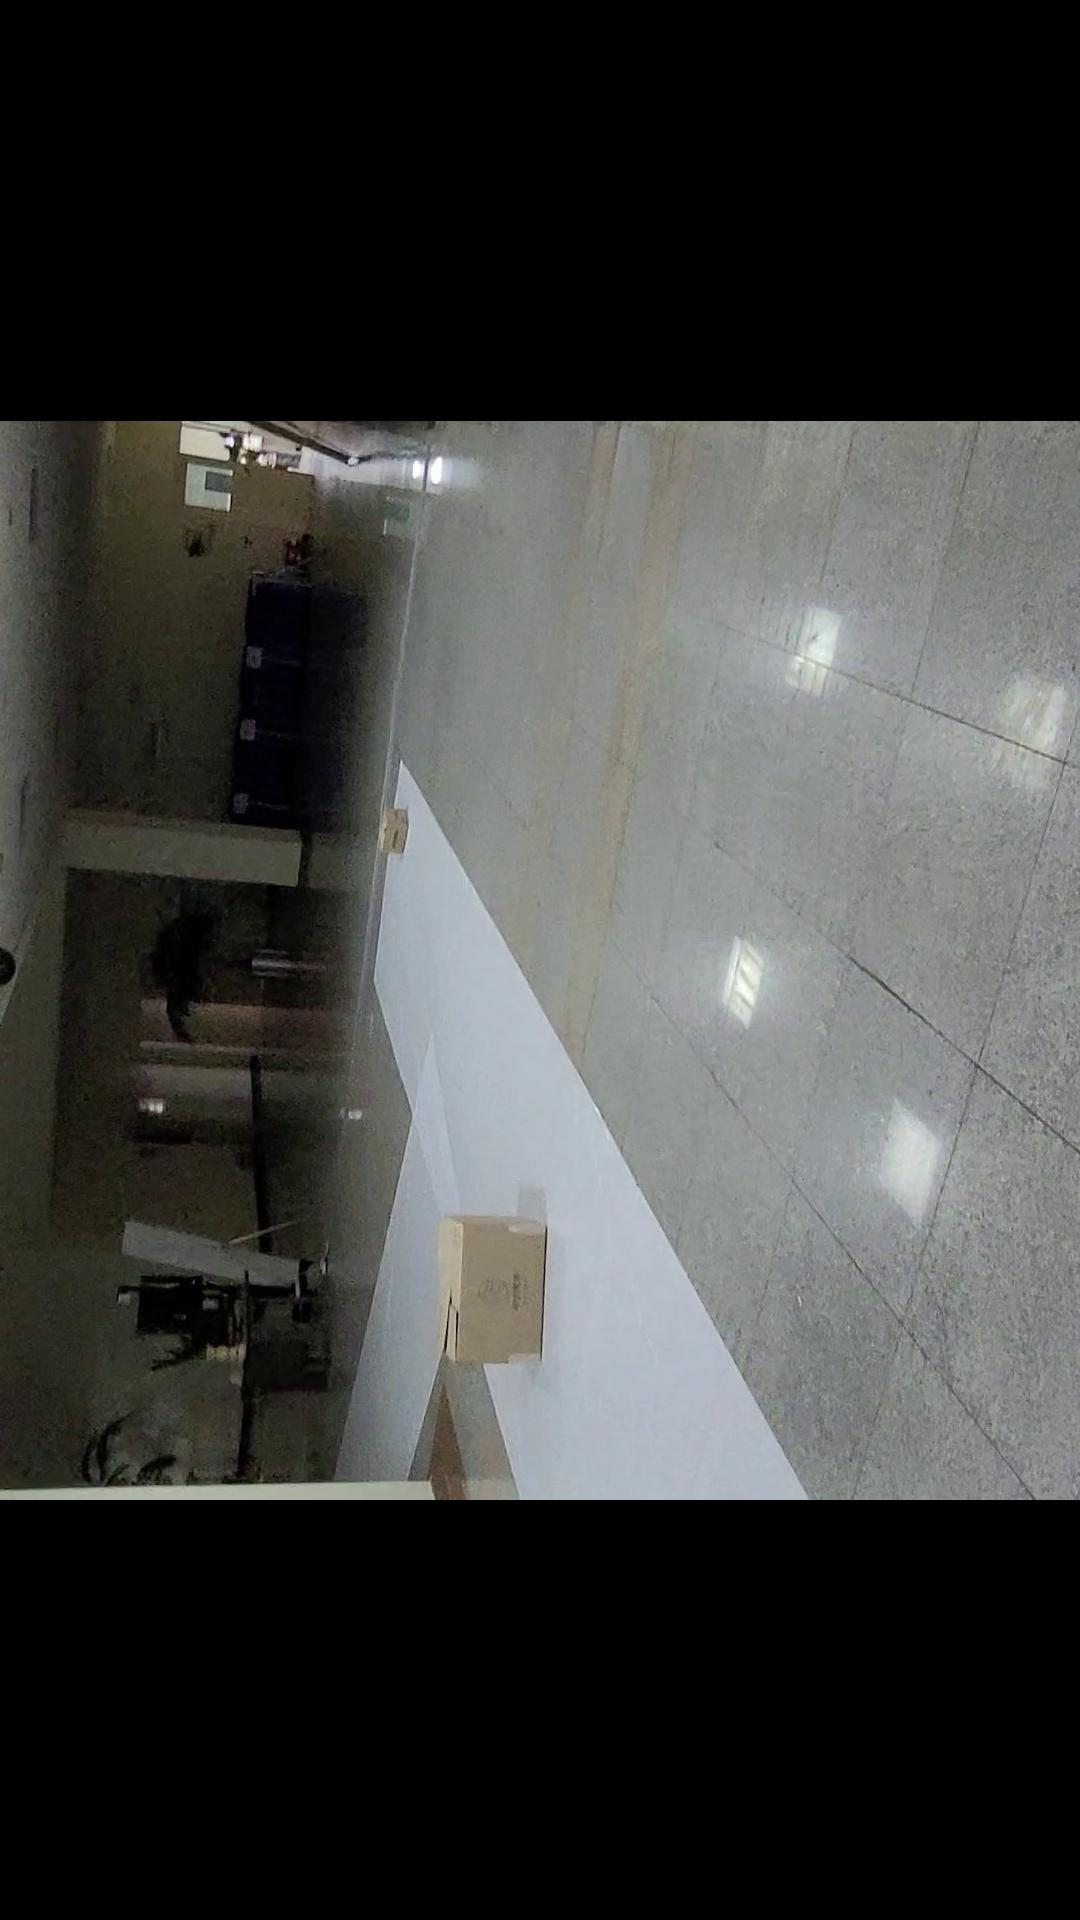Box: (418, 1178, 575, 1393), (357, 793, 429, 862)
